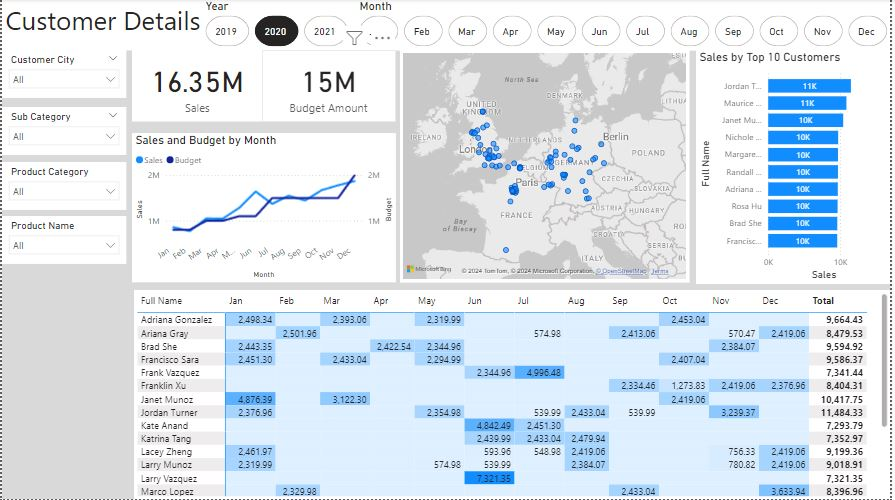

This screenshot's page, from the dashboard's own definition file:
{"tool":"powerbi","page":{"name":"Customer Details","canvas":[1280,720],"ordinal":1},"visuals":[{"type":"textbox","box":[0,0,1280,73.8],"z":0},{"type":"slicer","fields":{"Values":["DIM_Customers.Customer City"]},"box":[0,74,179,69],"z":1000},{"type":"slicer","fields":{"Values":["DIM_Products.Sub Category"]},"box":[0,155,179,69],"z":2000},{"type":"slicer","fields":{"Values":["DIM_Products.Product Category"]},"box":[0,234,179,69],"z":3000},{"type":"slicer","fields":{"Values":["DIM_Products.Product Name"]},"box":[0,313,179,69],"z":4000},{"type":"advancedSlicerVisual","fields":{"Values":["DIM_Calendar.Year"]},"box":[288.3,0,215,73.3],"z":5000},{"type":"advancedSlicerVisual","title":"Month","fields":{"Values":["DIM_Calendar.MonthShort"]},"box":[510,0,770,73.8],"z":6000},{"type":"map","fields":{"Category":["DIM_Customers.Customer City"]},"box":[573.3,73.3,416.7,335],"z":7000},{"type":"lineChart","fields":{"Category":["DIM_Calendar.MonthShort"],"Y":["Key_Measures.Sales"],"Y2":["Key_Measures.Budget Amount"]},"box":[186.7,193.3,380,215],"z":8000},{"type":"barChart","title":"Sales by Top 10 Customers","fields":{"Y":["Key_Measures.Sales"],"Category":["DIM_Customers.Full Name"]},"box":[1000,73.3,280,336.7],"z":9000},{"type":"card","fields":{"Values":["Key_Measures.Sales"]},"box":[186.7,73.3,188.3,103.3],"z":10000},{"type":"card","fields":{"Values":["Key_Measures.Budget Amount"]},"box":[375,73.3,191.7,103.3],"z":11000},{"type":"actionButton","box":[0,0,100,40],"z":12000},{"type":"pivotTable","fields":{"Columns":["DIM_Calendar.MonthShort"],"Rows":["DIM_Customers.Full Name"],"Values":["Key_Measures.Sales"]},"box":[190,418.3,1090,301.7],"z":13000}]}

Visuals, with their boxes in screenshot pixels (x1, y1, x2, y2), scaled from the page's 1280x720 canvas onto the 895x500 screenshot:
textbox: 0, 0, 894, 51
slicer - DIM_Customers.Customer City: 0, 51, 125, 99
slicer - DIM_Products.Sub Category: 0, 108, 125, 156
slicer - DIM_Products.Product Category: 0, 162, 125, 210
slicer - DIM_Products.Product Name: 0, 217, 125, 265
advancedSlicerVisual - DIM_Calendar.Year: 202, 0, 352, 51
"Month" advancedSlicerVisual: 357, 0, 894, 51
map - DIM_Customers.Customer City: 401, 51, 692, 284
lineChart - DIM_Calendar.MonthShort x Key_Measures.Sales: 131, 134, 396, 284
"Sales by Top 10 Customers" barChart: 699, 51, 894, 285
card - Key_Measures.Sales: 131, 51, 262, 123
card - Key_Measures.Budget Amount: 262, 51, 396, 123
actionButton: 0, 0, 70, 28
pivotTable - DIM_Calendar.MonthShort x DIM_Customers.Full Name: 133, 290, 894, 499
